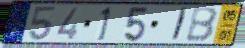1: (97, 6, 113, 42)
4: (55, 7, 80, 41)
5: (28, 5, 59, 42), (122, 5, 149, 43)
B: (185, 6, 220, 43)
I: (169, 6, 190, 43)
